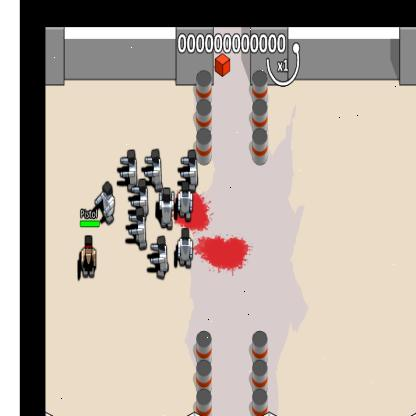agent: (79, 235, 97, 280)
jombie: (160, 188, 174, 232), (101, 181, 115, 223), (178, 227, 192, 269), (148, 148, 162, 188), (135, 209, 148, 248), (125, 149, 137, 191), (178, 184, 192, 220), (184, 149, 198, 184), (156, 236, 167, 278), (136, 178, 148, 208)
